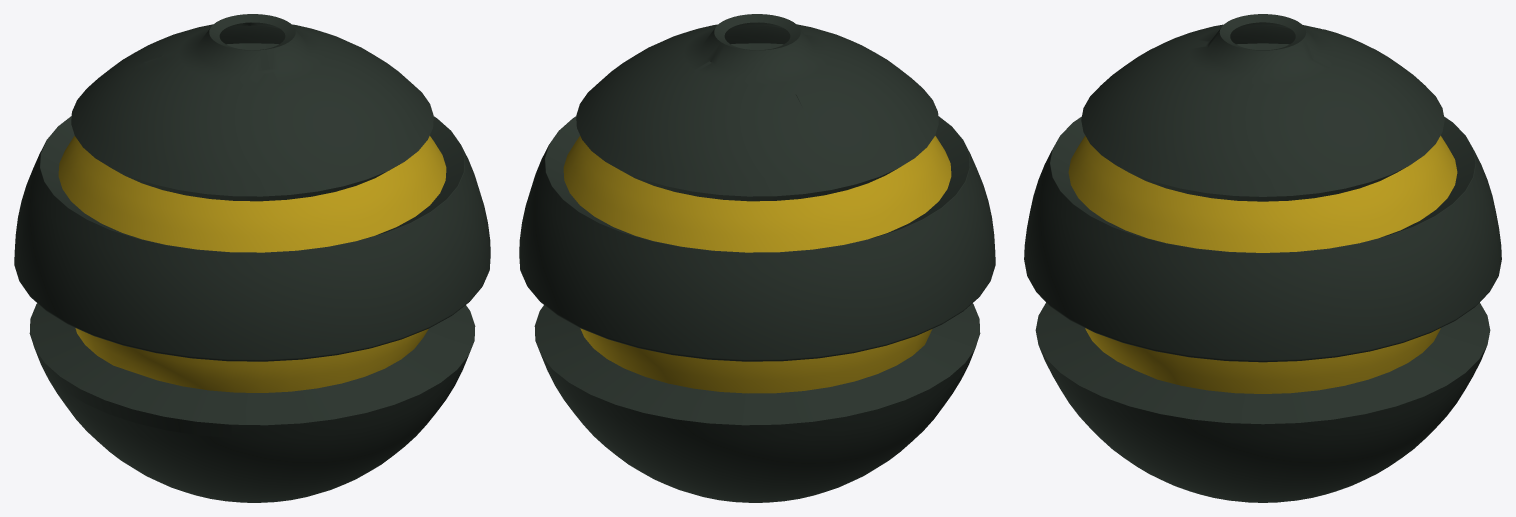
The model's file is GV_Project_SM_Bomb_LowPoly.fbx.
3 views of the same model, side by side, from view 1: azimuth 30°, elevation 25°; view 2: azimuth 150°, elevation 25°; view 3: azimuth 270°, elevation 25° (orthographic).
Visible parts, largest first — view 1: pSphere1; view 2: pSphere1; view 3: pSphere1.
Part boxes in pixels (x1,y1,x2,y2): pSphere1: (14,14,490,502); pSphere1: (519,14,995,502); pSphere1: (1024,14,1501,502).
Bounding box in the file's own units: 6.88 × 7.15 × 6.88.
